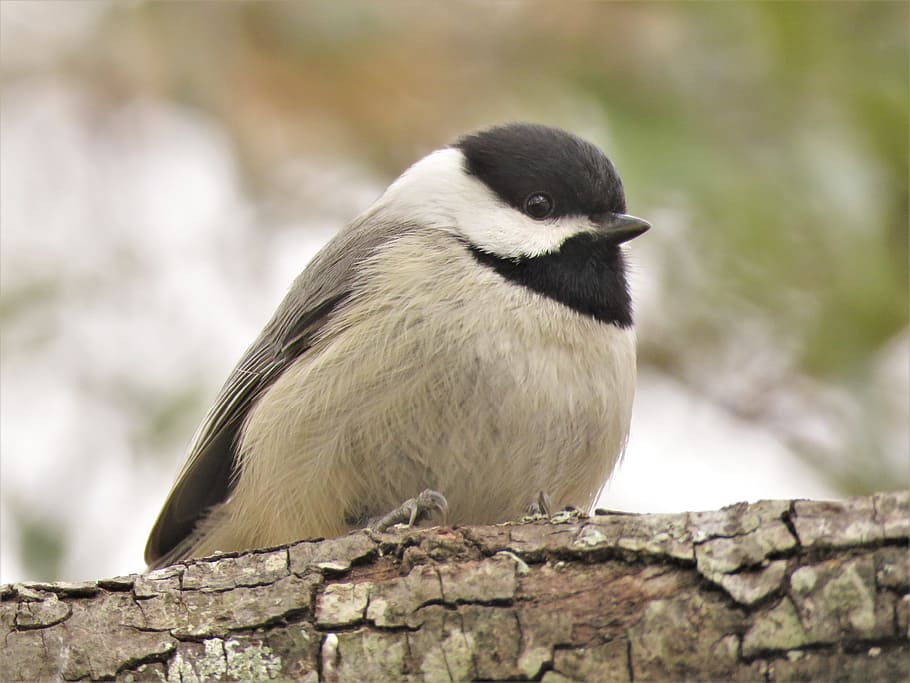bird: (127, 97, 674, 631)
